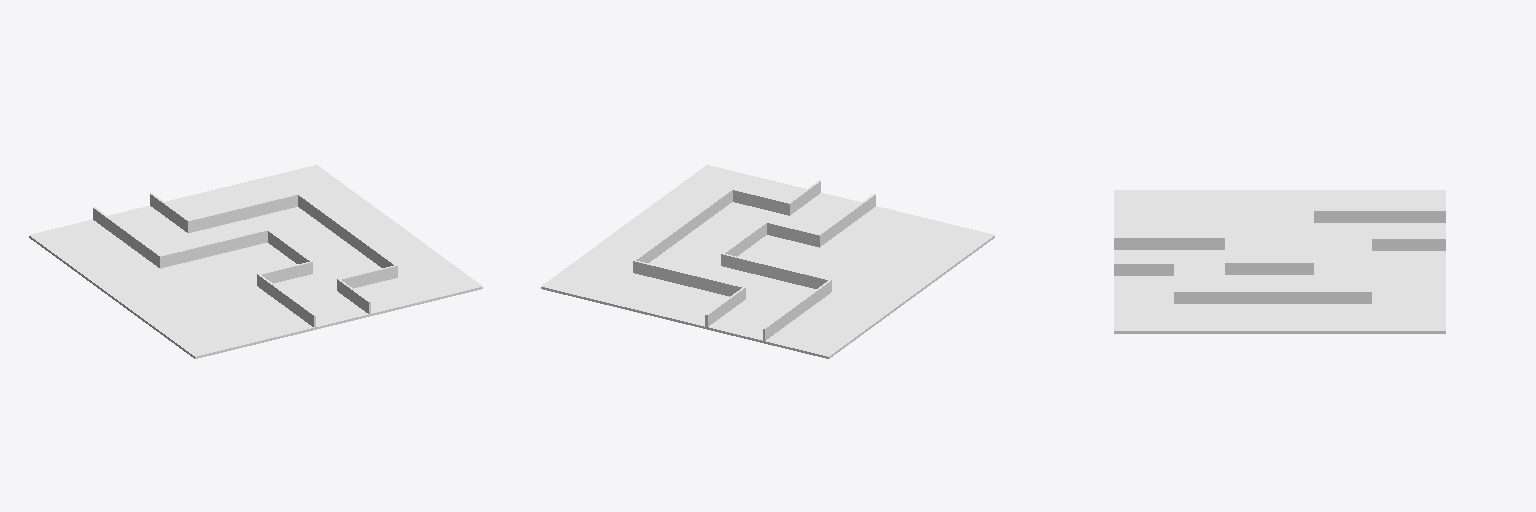
File: simplePath.obj
3 renders of one model, left to right at view 1: azimuth 30°, elevation 25°; view 2: azimuth 150°, elevation 25°; view 3: azimuth 270°, elevation 25°, orthographic.
Bounding box in the file's own units: 126 × 6 × 126.